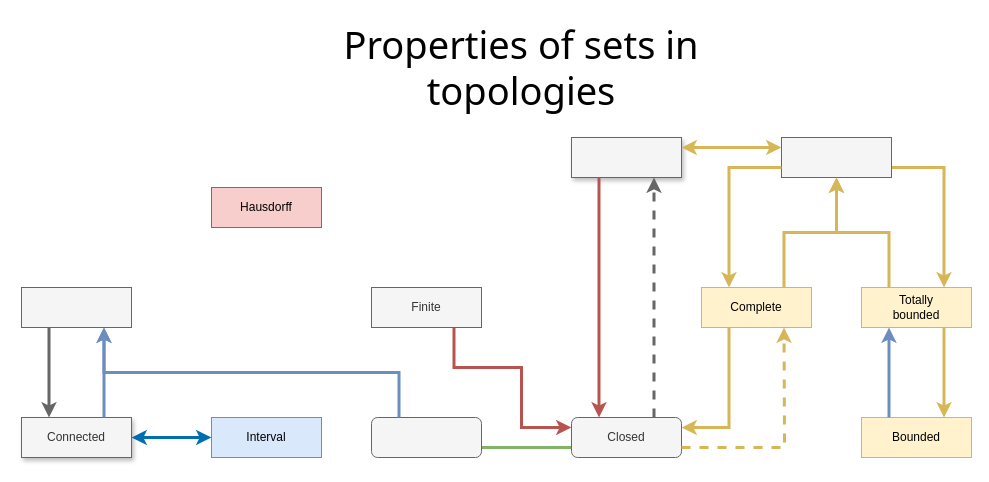
Some shapes in this 989 by 482 pixel diagram are drawn without their labels. The shapes that lost their labels are listed below. From the top down, each one's centre as x and y in pixels, then its label:
At (627,158): "Compact".
At (836,157): "Sequentially compact".
At (76,307): "Path-connected".
At (426,437): "Open".
